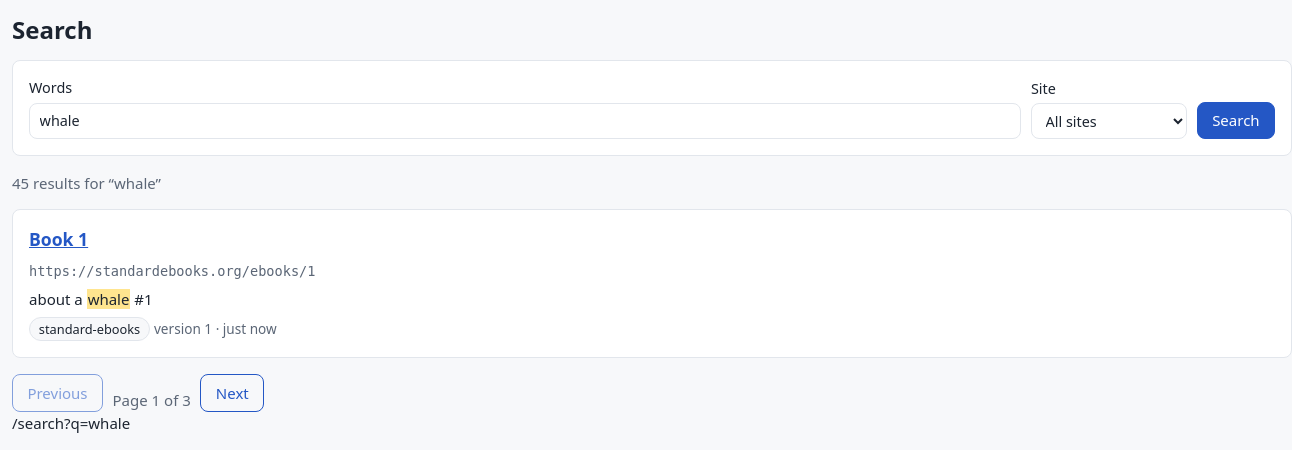
Scenario: Search › pages through results
This screenshot has width=1292, height=450.
Expected: the text "Page 1 of 3" is shown, x1=112 y1=389 x2=191 y2=412
Expected: the button "Previous" is disabled, x1=12 y1=374 x2=103 y2=412
Click the button "Next" at {"x": 232, "y": 393}, box x1=200 y1=374 x2=264 y2=412
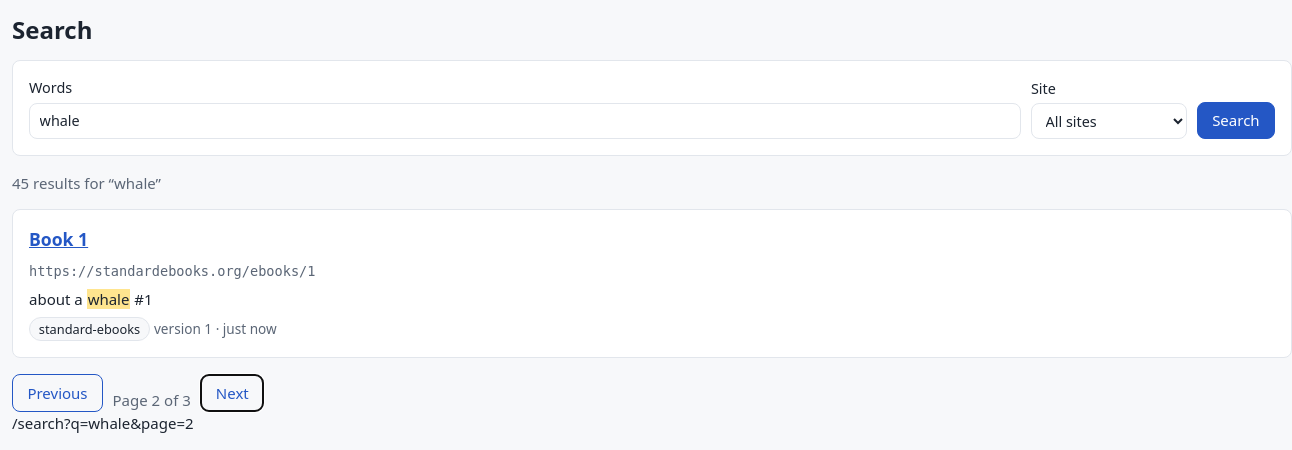
Expected: the text "Page 2 of 3" is shown, x1=112 y1=389 x2=191 y2=412
